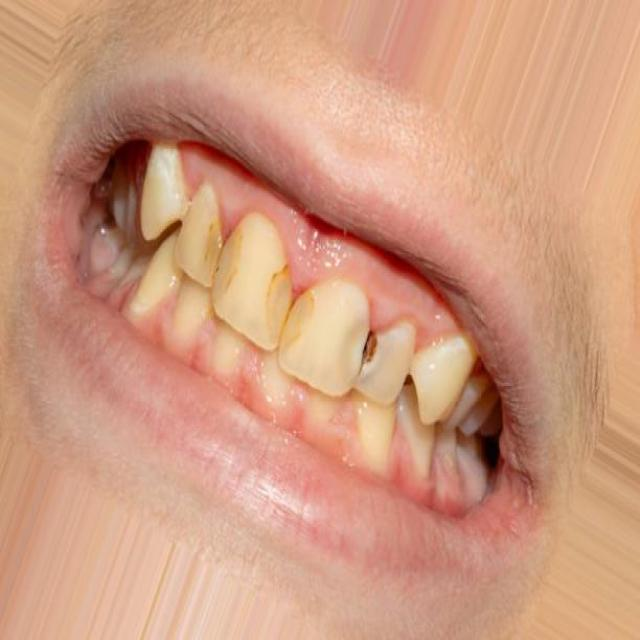caries: (260, 262, 322, 350), (196, 210, 247, 296), (346, 320, 384, 387)
